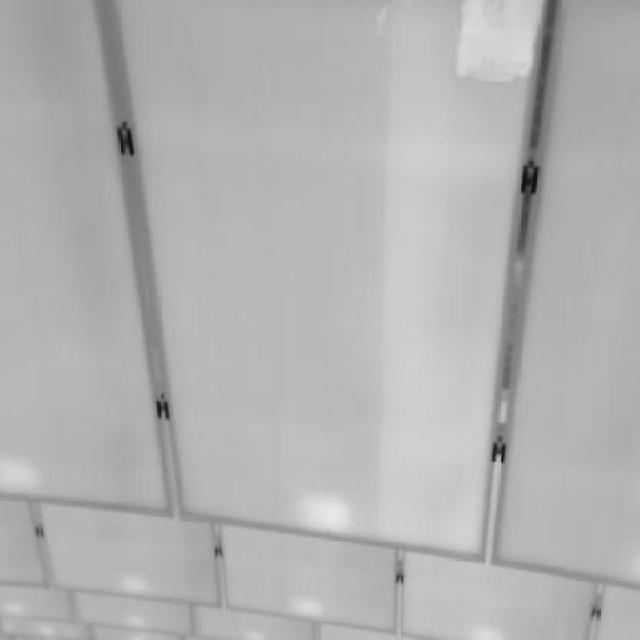hotspot: (452, 1, 545, 90)
